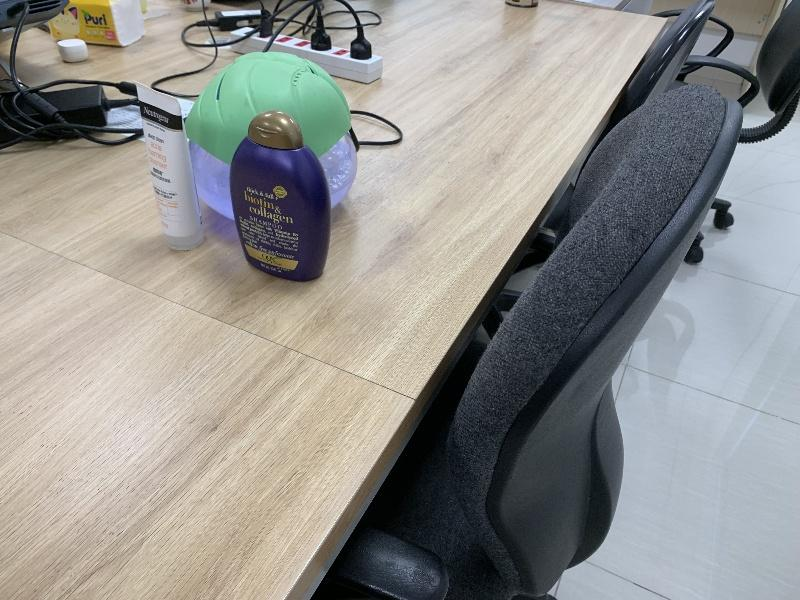AcneFoamingCleanser: (132, 80, 205, 251)
BiotinCollagen_Shampoo: (230, 110, 331, 282)
